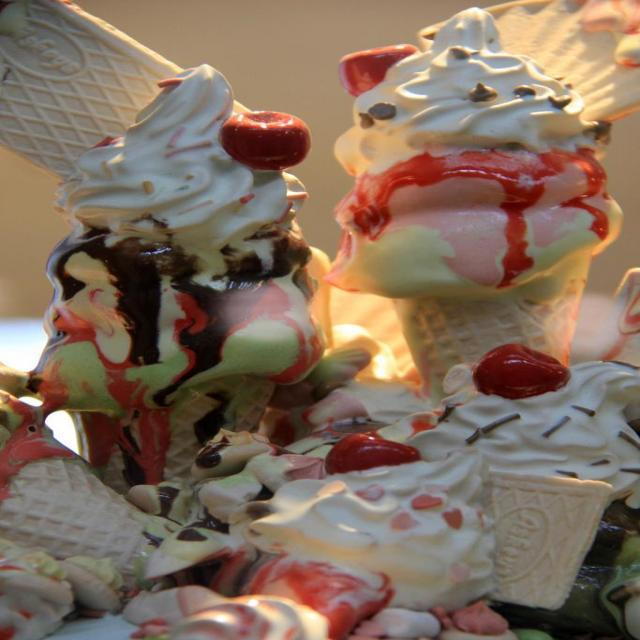Ice cream: (0, 0, 335, 489), (310, 272, 640, 640), (324, 10, 626, 398), (132, 424, 530, 640), (0, 391, 193, 640)
